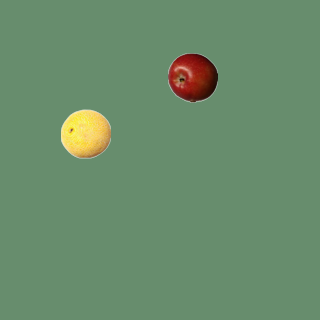Apple Braeburn: (167, 52, 217, 102)
Cantaloupe 1: (60, 108, 110, 158)
